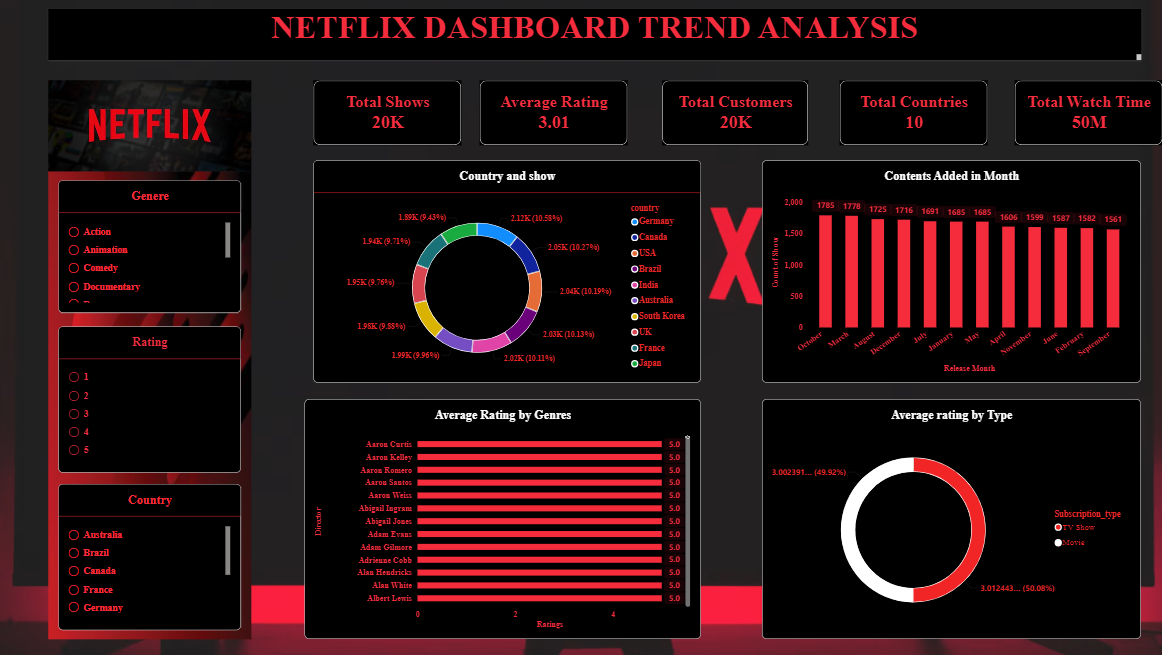

What the dashboard file says about the page in this screenshot:
{"tool":"powerbi","page":{"name":"Trend Analysis","canvas":[1920,1080],"ordinal":3},"visuals":[{"type":"cardVisual","fields":{"Data":["netflix_customer_ratings.Average Rating"]},"box":[794,134,244.9,107],"z":0},{"type":"cardVisual","fields":{"Data":["netflix_customer_ratings.Total Countries"]},"box":[1388,134,244.9,107],"z":1000},{"type":"cardVisual","fields":{"Data":["netflix_customer_ratings.Total Customers"]},"box":[1096,134,241.4,107.1],"z":2000},{"type":"image","box":[84,134,334,150],"z":3000},{"type":"image","box":[84,284,334,770],"z":4000},{"type":"cardVisual","fields":{"Data":["netflix_dataset.Total Shows"]},"box":[520,134,244.9,107],"z":5000},{"type":"donutChart","title":"Country and show","fields":{"Y":["CountNonNull(netflix_customer_ratings.show_id)"],"Category":["netflix_dataset.country"]},"box":[520.8,265.5,638.1,366.4],"z":6000},{"type":"columnChart","title":"Contents Added in Month","fields":{"Category":["netflix_dataset.Release Month"],"Y":["CountNonNull(netflix_customer_ratings.show_id)"]},"box":[1259.7,265.5,623.7,366.4],"z":7000},{"type":"clusteredBarChart","title":"Average Rating by Genres","fields":{"Y":["netflix_customer_ratings.Director Rating"],"Category":["netflix_dataset.director"]},"box":[506.3,658.7,652.5,395.2],"z":8000},{"type":"donutChart","title":"Average rating by Type","fields":{"Category":["netflix_dataset.type"],"Y":["netflix_customer_ratings.Average Rating"]},"box":[1259.7,658.7,623.7,395.2],"z":9000},{"type":"listSlicer","title":"Genere","fields":{"Values":["netflix_dataset.genre"]},"box":[100.9,298.5,300.5,218.2],"z":10000},{"type":"listSlicer","title":"Rating","fields":{"Values":["netflix_customer_ratings.rating"]},"box":[100.9,539.3,300.5,240.8],"z":11000},{"type":"listSlicer","title":"Country","fields":{"Values":["netflix_customer_ratings.country"]},"box":[100.9,798.6,300.5,240.8],"z":12000},{"type":"textbox","title":"NETFLIX DASHBOARD TREND ANALYSIS","box":[84,16,1800,84],"z":13000},{"type":"cardVisual","fields":{"Data":["netflix_customer_ratings.Total Watch Time"]},"box":[1675.1,134,244.9,107],"z":14000}]}

Visuals, with their boxes in screenshot pixels (x1, y1, x2, y2), scaled from the page's 1920x1080 canvas onto the 1162x655 screenshot:
cardVisual - netflix_customer_ratings.Average Rating: x1=481, y1=81, x2=629, y2=146
cardVisual - netflix_customer_ratings.Total Countries: x1=840, y1=81, x2=988, y2=146
cardVisual - netflix_customer_ratings.Total Customers: x1=663, y1=81, x2=809, y2=146
image: x1=51, y1=81, x2=253, y2=172
image: x1=51, y1=172, x2=253, y2=639
cardVisual - netflix_dataset.Total Shows: x1=315, y1=81, x2=463, y2=146
"Country and show" donutChart: x1=315, y1=161, x2=701, y2=383
"Contents Added in Month" columnChart: x1=762, y1=161, x2=1140, y2=383
"Average Rating by Genres" clusteredBarChart: x1=306, y1=399, x2=701, y2=639
"Average rating by Type" donutChart: x1=762, y1=399, x2=1140, y2=639
"Genere" listSlicer: x1=61, y1=181, x2=243, y2=313
"Rating" listSlicer: x1=61, y1=327, x2=243, y2=473
"Country" listSlicer: x1=61, y1=484, x2=243, y2=630
"NETFLIX DASHBOARD TREND ANALYSIS" textbox: x1=51, y1=10, x2=1140, y2=61
cardVisual - netflix_customer_ratings.Total Watch Time: x1=1014, y1=81, x2=1161, y2=146
